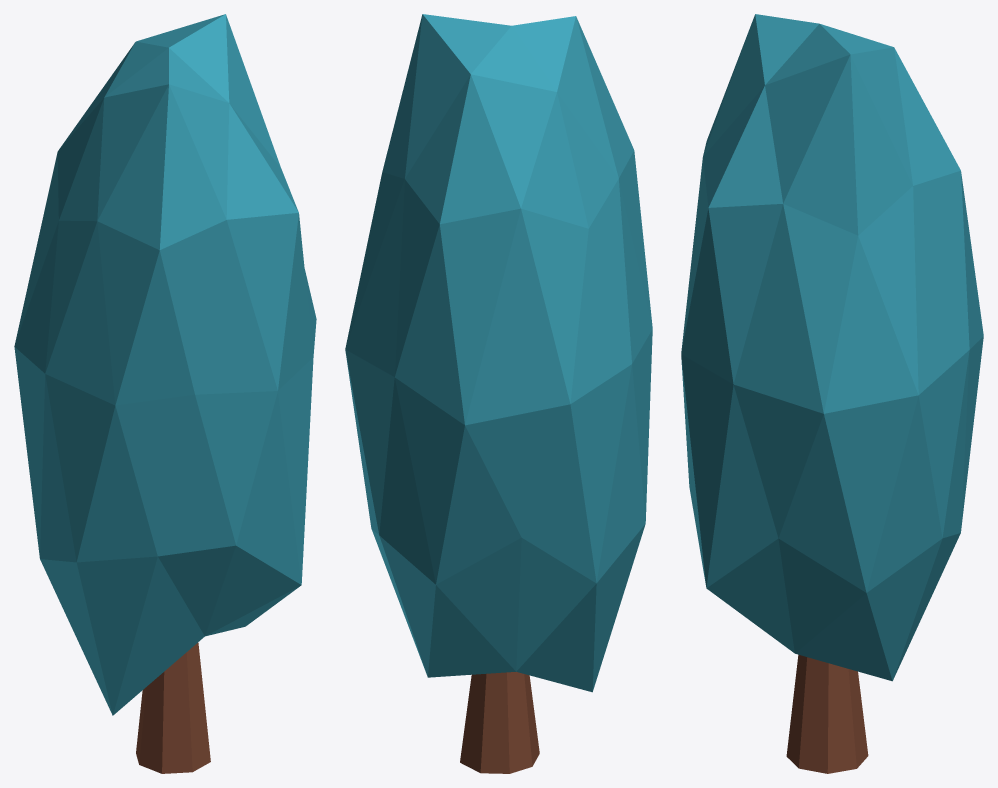
Rendered from Tree_05_summer_blue_vc.fbx.
3 views of the same model, side by side, from view 1: azimuth 30°, elevation 25°; view 2: azimuth 150°, elevation 25°; view 3: azimuth 270°, elevation 25° (orthographic). The views are drawn at different scales.
Visible parts, largest first — view 1: Tree_05_summer_blue_vc; view 2: Tree_05_summer_blue_vc; view 3: Tree_05_summer_blue_vc.
Part boxes in pixels (x1=…): Tree_05_summer_blue_vc: x1=14, y1=14, x2=316, y2=773; Tree_05_summer_blue_vc: x1=345, y1=14, x2=652, y2=773; Tree_05_summer_blue_vc: x1=681, y1=14, x2=983, y2=773.
Bounding box in the file's own units: 104 × 266 × 99.25.
